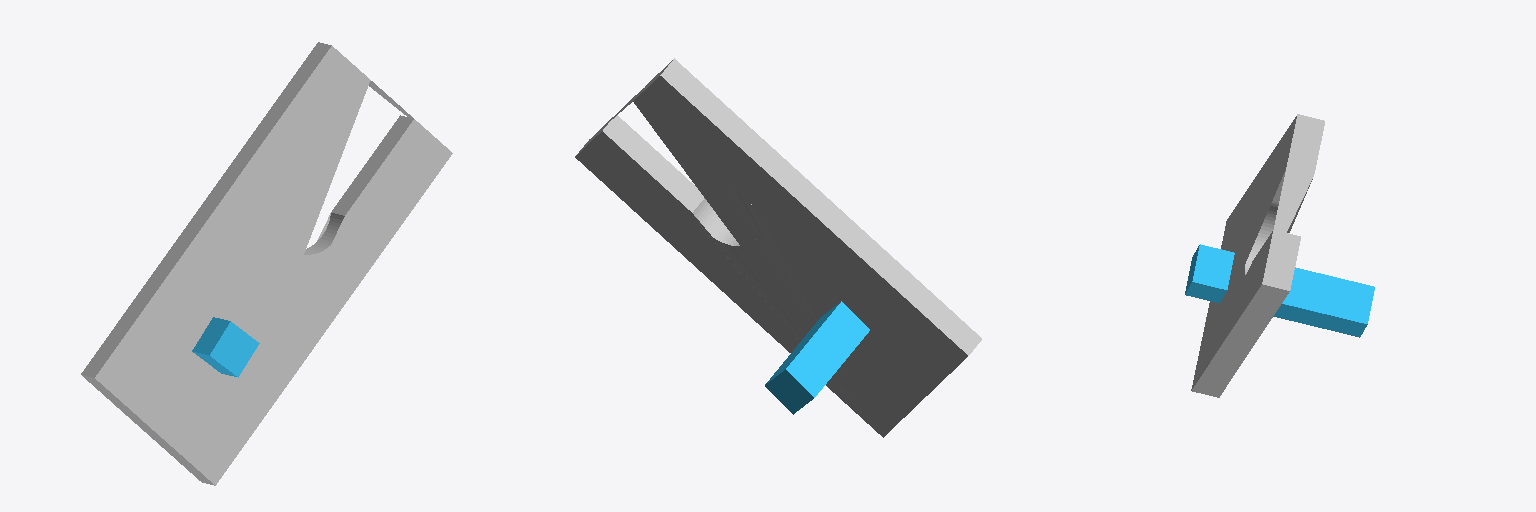
Rendered from shop_1044.obj.
The picture shows the model from 3 angles: view 1: azimuth 30°, elevation 25°; view 2: azimuth 150°, elevation 25°; view 3: azimuth 270°, elevation 25°; orthographic projection.
Parts seen in each view (by area): view 1: 1044 110841 PL8x50 SCHETSPLAAT S235JR, M16x40 1   8.8 110847; view 2: 1044 110841 PL8x50 SCHETSPLAAT S235JR, M16x40 1   8.8 110847; view 3: 1044 110841 PL8x50 SCHETSPLAAT S235JR, M16x40 1   8.8 110847.
Part boxes in pixels (bbox=[...]): 1044 110841 PL8x50 SCHETSPLAAT S235JR: bbox=[81, 42, 452, 485]; M16x40 1   8.8 110847: bbox=[192, 317, 259, 377]; 1044 110841 PL8x50 SCHETSPLAAT S235JR: bbox=[575, 58, 981, 437]; M16x40 1   8.8 110847: bbox=[765, 301, 869, 414]; 1044 110841 PL8x50 SCHETSPLAAT S235JR: bbox=[1191, 114, 1324, 397]; M16x40 1   8.8 110847: bbox=[1185, 244, 1374, 337].
Bounding box in the file's own units: 120 × 111 × 52.44.